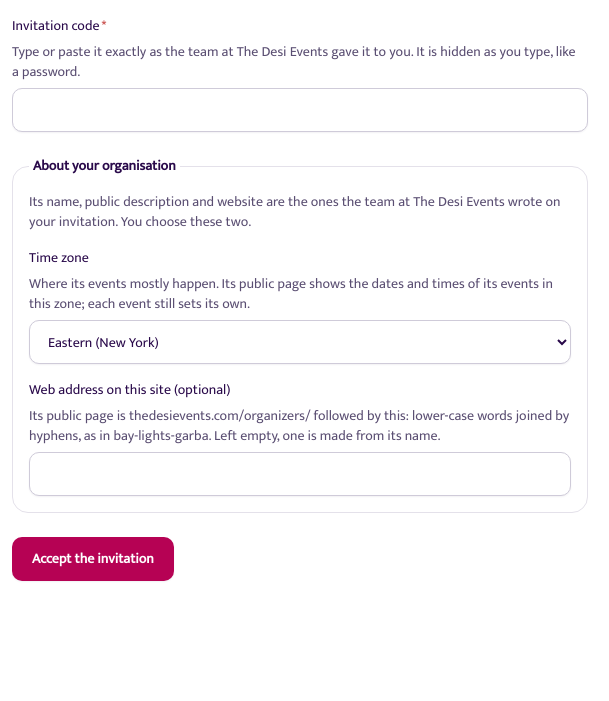
it: the accept form › repeats the API’s sentence for a staff account
This screenshot has width=609, height=701.
Type "Pq7_wE0-rT3yU6iO9pA2sD5fG8hJ1kL4zX7cV0bN3m" into the password field labelled "Invitation code*" at (300, 110), box [12,88,588,132]
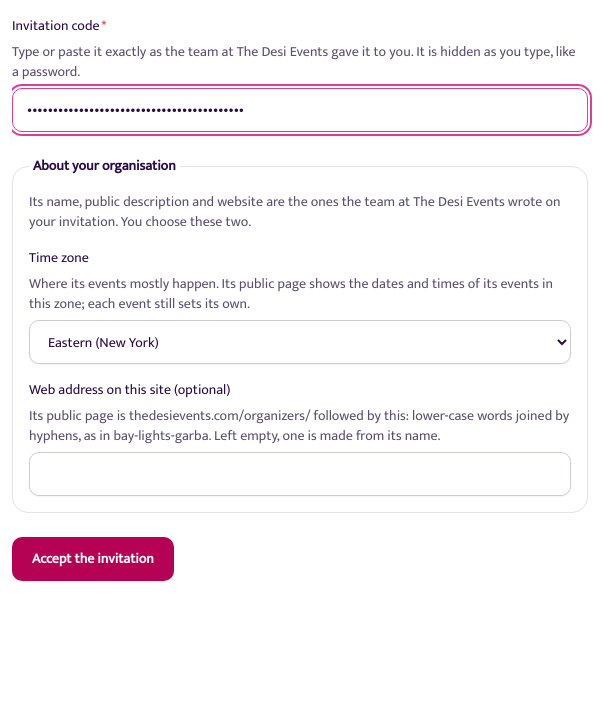
Click the button "Accept the invitation" at (93, 559), box [12,537,174,581]
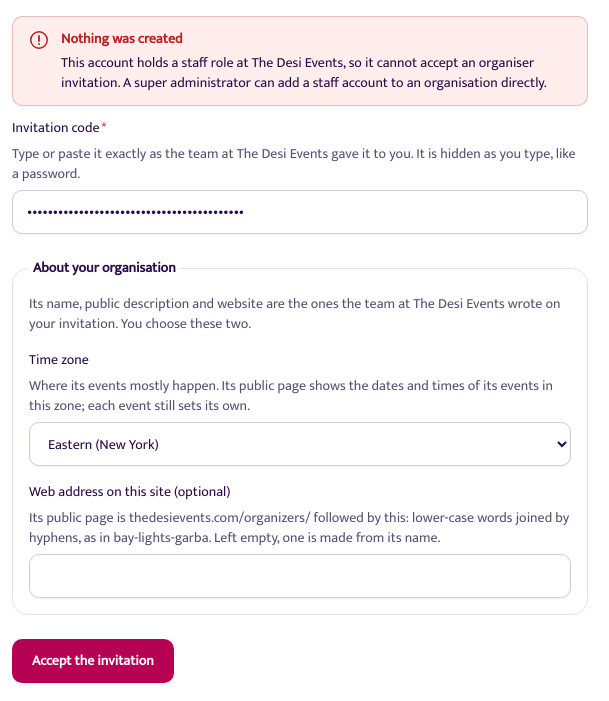
Expected: the text "This account holds a staff role at The Desi Events, so it cannot accept an organiser invitation. A super administrator c" is shown, [61,51,547,94]
